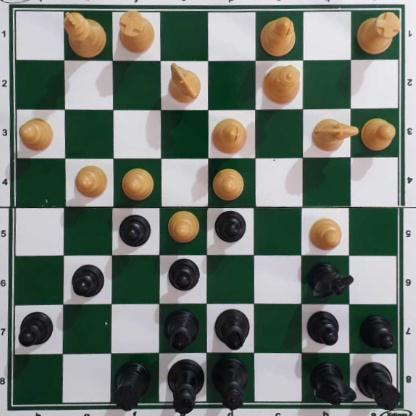black-bishop: (213, 309, 251, 351), (163, 310, 198, 351)
black-king: (168, 357, 202, 415)
black-knight: (308, 361, 357, 406), (309, 262, 350, 300)
black-pawn: (18, 312, 53, 349), (360, 317, 395, 352), (71, 265, 105, 300), (167, 260, 199, 296), (119, 215, 151, 251), (309, 312, 340, 349), (214, 212, 246, 246)
black-queen: (211, 359, 251, 411)
black-rook: (357, 362, 402, 412), (110, 361, 152, 413)
white-bishop: (262, 16, 297, 58), (211, 120, 247, 157)
white-king: (63, 11, 108, 59)
white-knight: (310, 116, 360, 153), (166, 63, 202, 105)
white-pawn: (19, 117, 56, 154), (308, 217, 343, 254), (74, 165, 108, 203), (122, 169, 155, 203), (360, 120, 396, 151), (167, 213, 201, 245), (213, 169, 245, 203)
white-queen: (264, 63, 300, 108)
white-rook: (357, 13, 402, 56), (117, 11, 155, 53)
